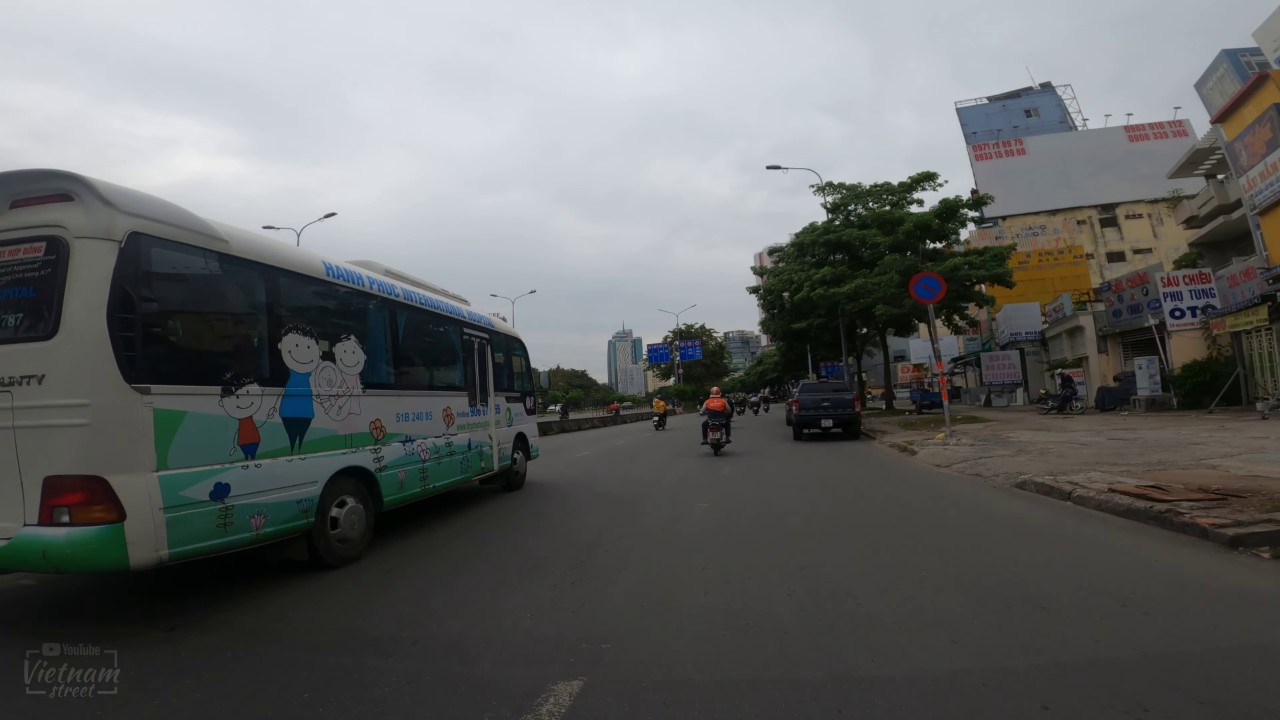cam_do_xe: (904, 267, 950, 308)
